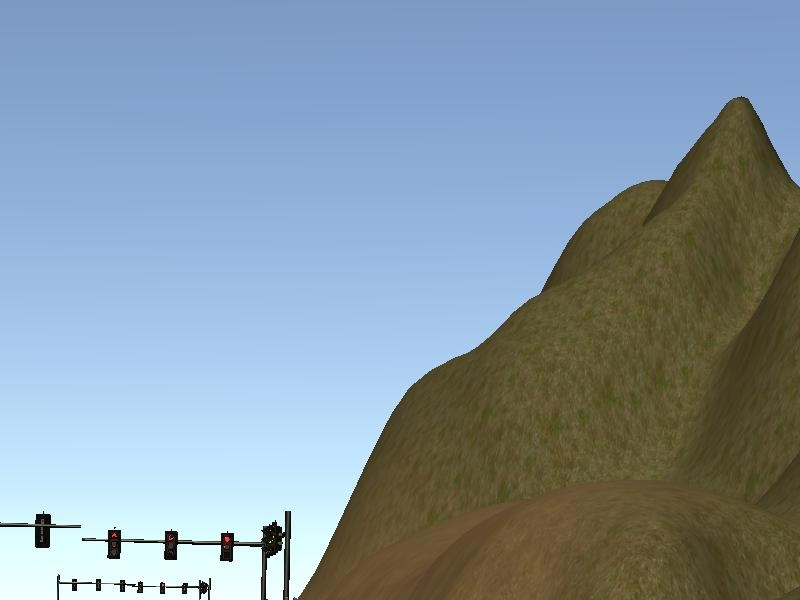traffic_light_red: (97, 528, 260, 562)
